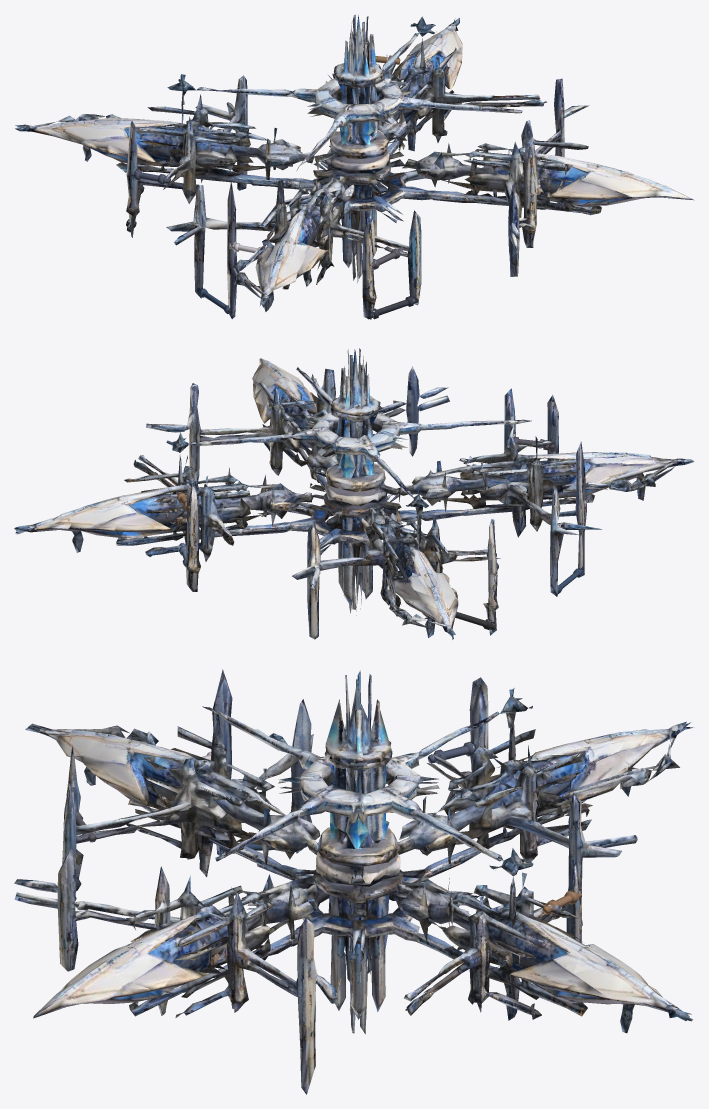
The model's file is st3d_aurelion_shipyard_lod1.glb.
3 views of the same model, one above another, from view 1: azimuth 30°, elevation 25°; view 2: azimuth 150°, elevation 25°; view 3: azimuth 270°, elevation 25° (orthographic). The views are drawn at different scales.
Visible parts, largest first — view 1: HOMELANCER_Station3D_Aurelion-Shipyard_v1; view 2: HOMELANCER_Station3D_Aurelion-Shipyard_v1; view 3: HOMELANCER_Station3D_Aurelion-Shipyard_v1.
Boxes of the visible parts, x1=… form: HOMELANCER_Station3D_Aurelion-Shipyard_v1: x1=15, y1=14, x2=694, y2=319; HOMELANCER_Station3D_Aurelion-Shipyard_v1: x1=14, y1=348, x2=694, y2=639; HOMELANCER_Station3D_Aurelion-Shipyard_v1: x1=14, y1=669, x2=694, y2=1094.
Size of the model in its own units: 0.9764 by 0.5612 by 0.9522.
Materials: 1 (1 with a texture image).
